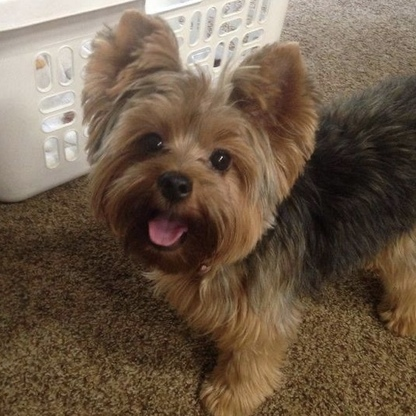yorkshire: (82, 7, 414, 415)
